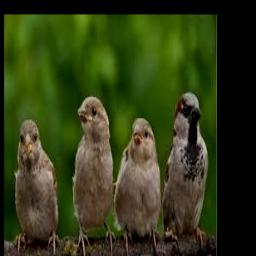Sparrow: (162, 90, 209, 249), (73, 96, 116, 256), (14, 119, 60, 256), (114, 117, 161, 248)
